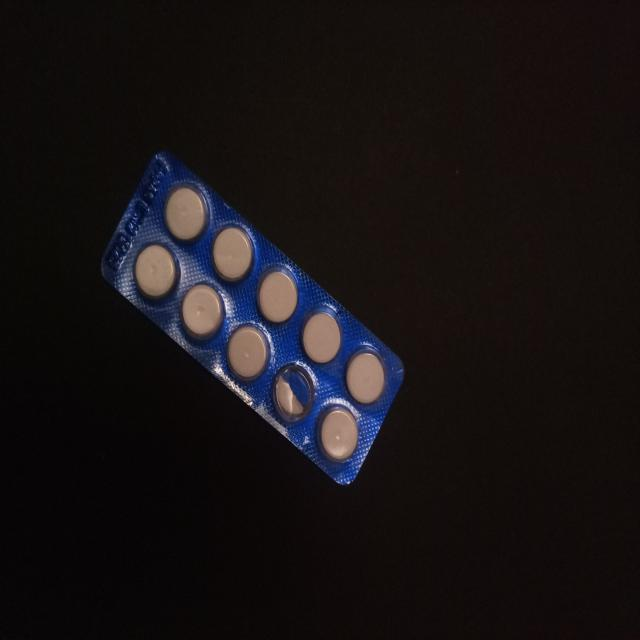defect: (270, 361, 318, 426)
